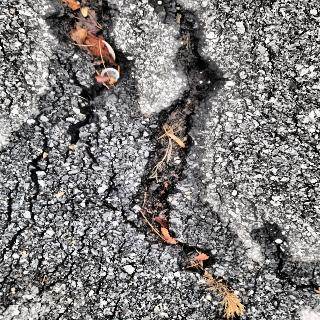crack: (0, 122, 51, 254), (270, 239, 320, 293), (67, 92, 107, 152)
pothole: (133, 17, 229, 280)
